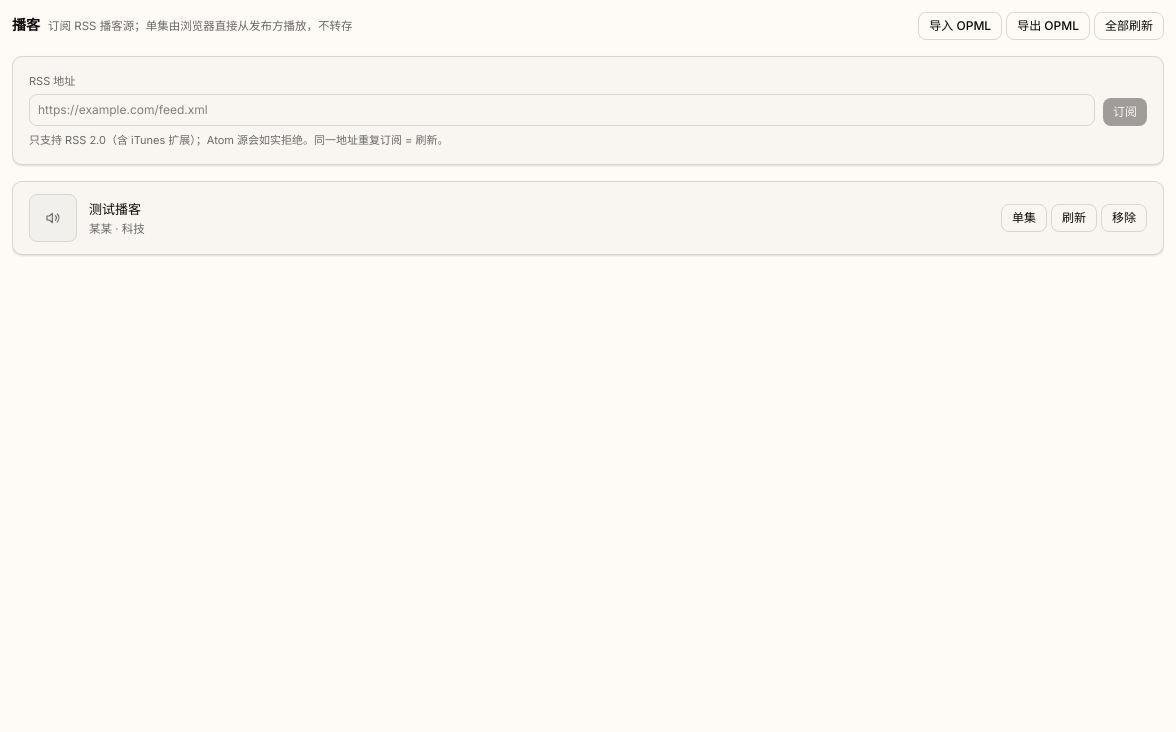
Test: PodcastsView › 订阅列表来自后端；点单集取回单集并渲染音频地址
The width and height of the screenshot is (1176, 732).
Click the button "单集" at (1024, 218), box [1001, 204, 1047, 232]
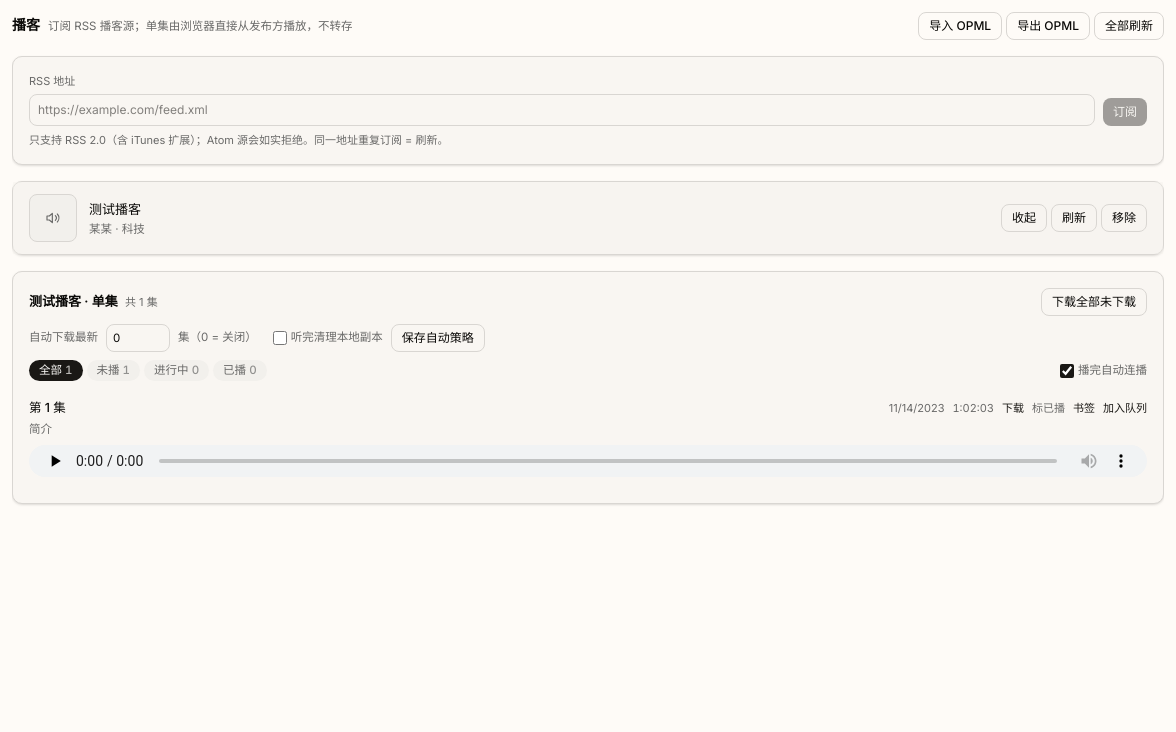
Result: the text "第 1 集" is shown at [29, 400, 66, 415]
